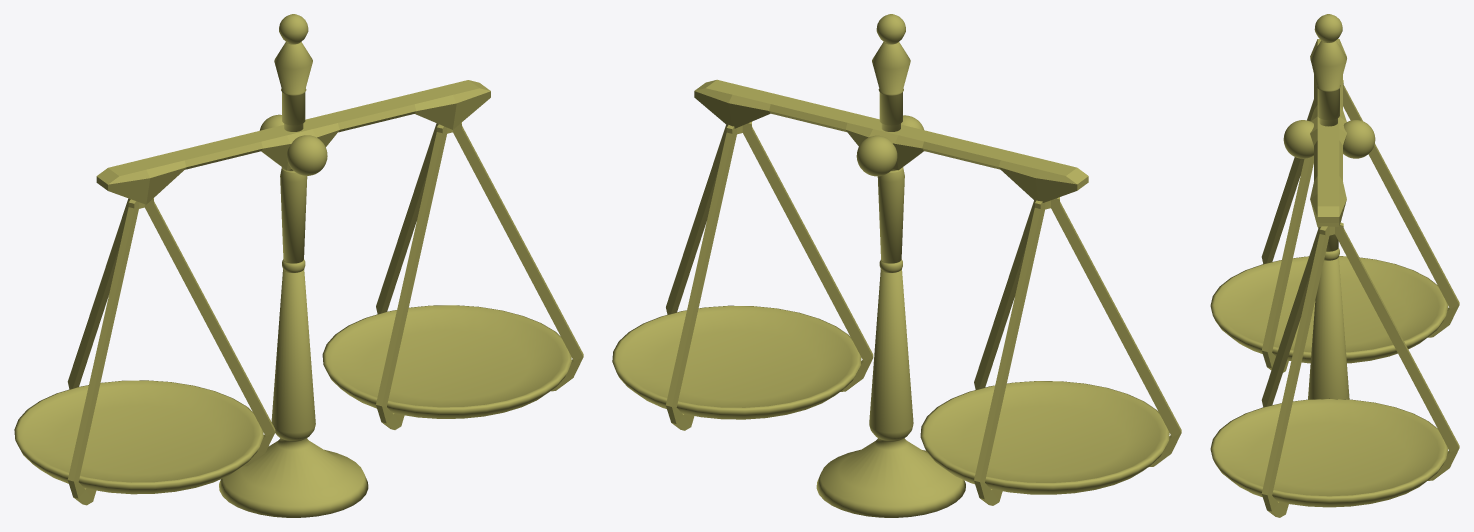
The model's file is TestScale.fbx.
3 views of the same model, side by side, from view 1: azimuth 30°, elevation 25°; view 2: azimuth 150°, elevation 25°; view 3: azimuth 270°, elevation 25° (orthographic). The views are drawn at different scales.
Parts seen in each view (by area): view 1: Cylinder.009, Cylinder.008, Cylinder.006, Cylinder.007; view 2: Cylinder.009, Cylinder.008, Cylinder.006, Cylinder.007; view 3: Cylinder.008, Cylinder.009, Cylinder.006, Cylinder.007.
Boxes of the visible parts, bbox=[...] form: Cylinder.009: bbox=[14, 198, 275, 505]; Cylinder.008: bbox=[322, 122, 583, 429]; Cylinder.006: bbox=[219, 14, 368, 517]; Cylinder.007: bbox=[96, 80, 490, 204]; Cylinder.009: bbox=[920, 197, 1181, 505]; Cylinder.008: bbox=[612, 121, 873, 430]; Cylinder.006: bbox=[816, 14, 965, 517]; Cylinder.007: bbox=[694, 79, 1088, 202]; Cylinder.008: bbox=[1210, 222, 1459, 517]; Cylinder.009: bbox=[1210, 80, 1459, 372]; Cylinder.006: bbox=[1283, 14, 1375, 399]; Cylinder.007: bbox=[1310, 39, 1346, 227].
Bounding box in the file's own units: 192 × 165 × 82.98.
